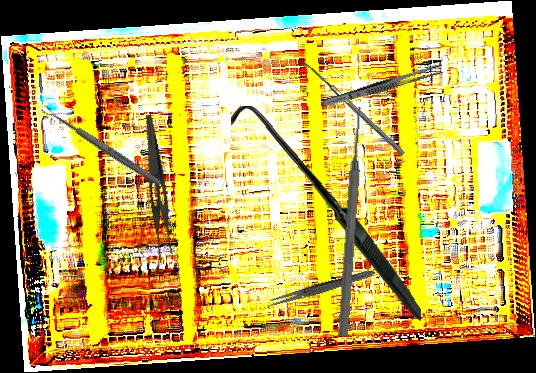Dressing Forceps: (129, 114, 181, 264), (319, 61, 445, 111), (264, 266, 377, 311)
Hook Surgical: (227, 105, 425, 321)
Pusher: (336, 106, 367, 337)
Spatula Surgical: (296, 57, 406, 160)
Surgical Spoon: (40, 103, 163, 188)
